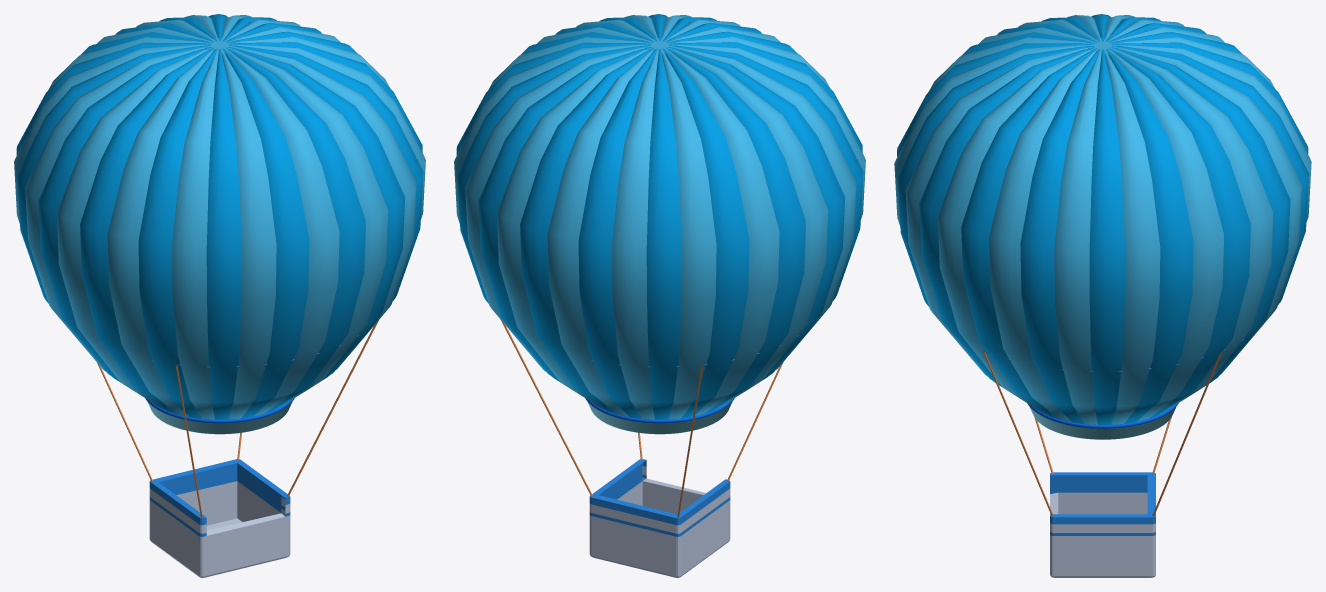
The model's file is Baloon.glb.
The picture shows the model from 3 angles, left to right: view 1: azimuth 30°, elevation 25°; view 2: azimuth 150°, elevation 25°; view 3: azimuth 270°, elevation 25°; orthographic projection.
Visible parts, largest first — view 1: Sphere.001, Cube; view 2: Sphere.001, Cube; view 3: Sphere.001, Cube.
Boxes of the visible parts, x1,y1,x2,y2 form: Sphere.001: (14,14,425,434); Cube: (149,459,290,577); Sphere.001: (454,14,865,434); Cube: (589,459,730,577); Sphere.001: (894,14,1311,439); Cube: (1050,472,1155,577).
Bounding box in the file's own units: 5.94 × 8.03 × 5.94.
